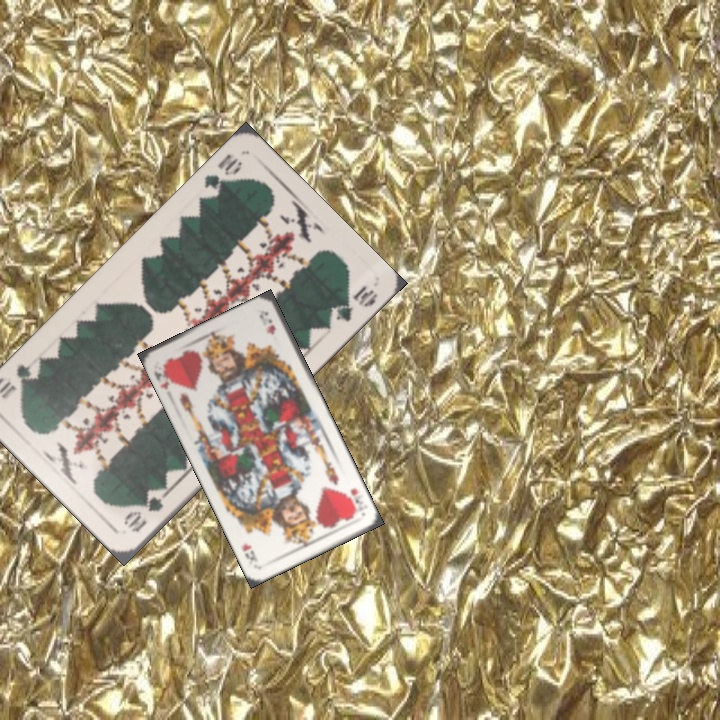G10: (119, 488, 171, 535), (199, 149, 245, 202)
HK: (150, 360, 178, 392), (345, 484, 365, 513)
